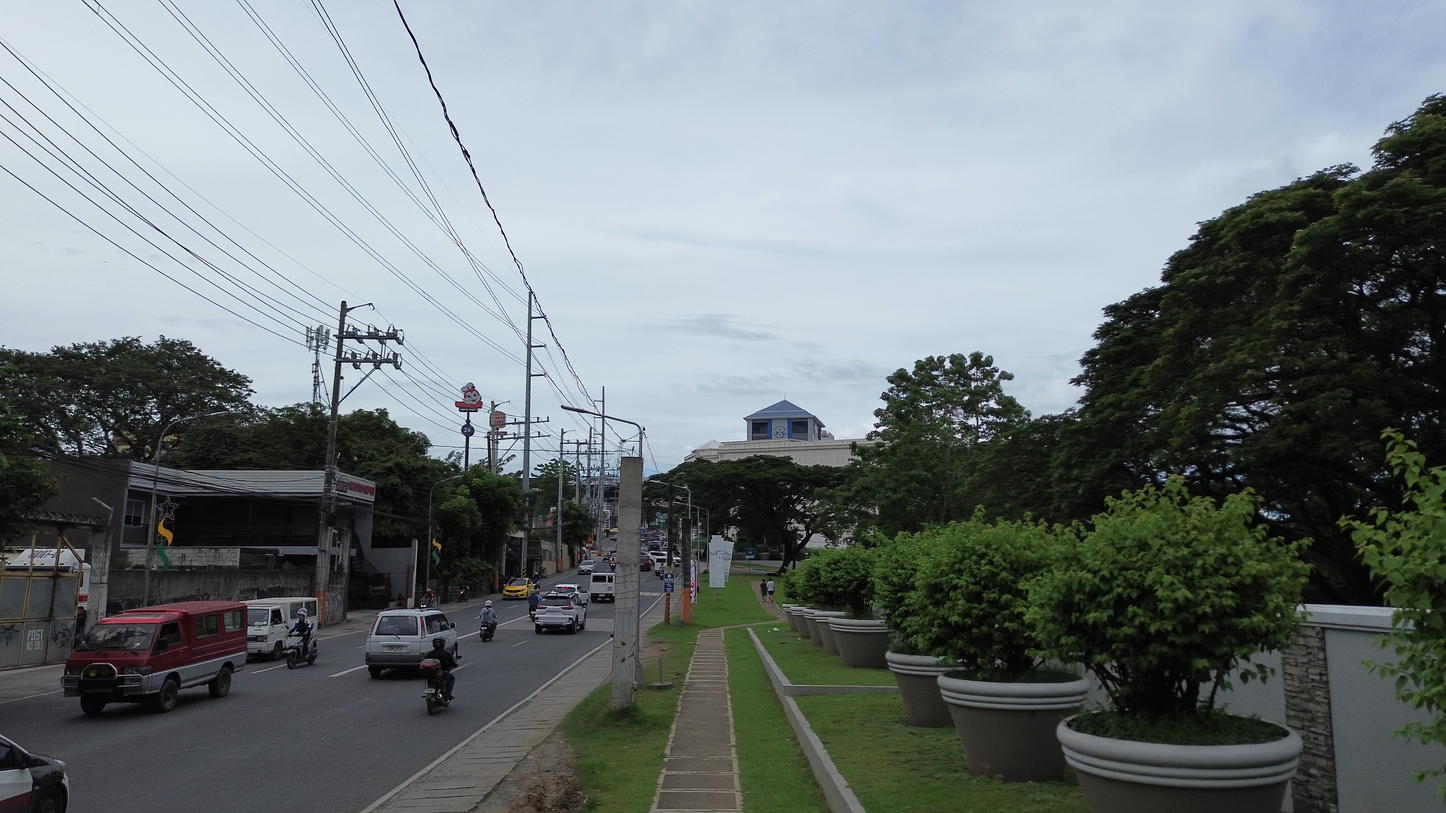car: (550, 583, 588, 604)
motorcycle: (285, 635, 319, 668), (480, 622, 497, 642)
vehicle: (62, 601, 246, 714), (365, 609, 457, 678), (0, 736, 69, 813), (244, 597, 319, 659), (534, 592, 587, 633), (419, 658, 450, 715), (286, 634, 319, 668), (550, 583, 588, 603), (589, 573, 615, 601), (503, 577, 536, 599), (648, 552, 668, 569), (578, 559, 595, 575), (639, 557, 653, 571)
